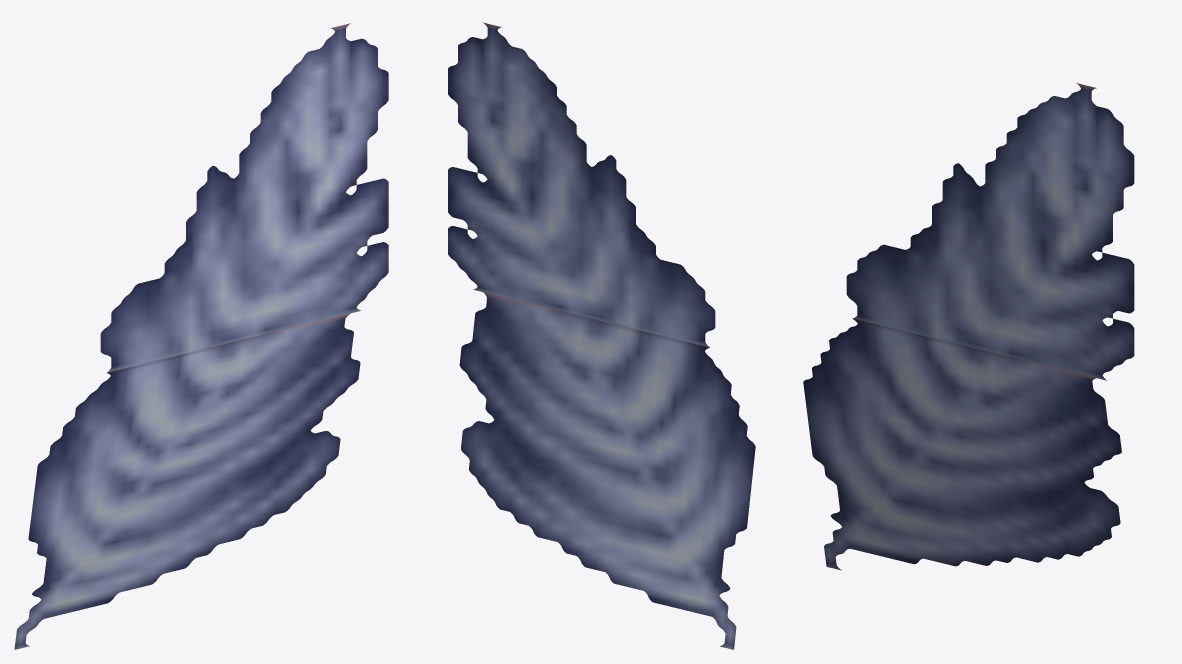
The picture shows the model from 3 angles, left to right: view 1: azimuth 30°, elevation 25°; view 2: azimuth 150°, elevation 25°; view 3: azimuth 330°, elevation 25°; orthographic projection. The views are drawn at different scales.
Visible parts, largest first — view 1: T1L1M002_7; view 2: T1L1M002_7; view 3: T1L1M002_7.
Boxes of the visible parts, box(x1,y1,x2,y2) form: T1L1M002_7: box(14, 23, 388, 649); T1L1M002_7: box(448, 22, 755, 649); T1L1M002_7: box(803, 83, 1134, 570).
Size of the model in its own units: 0.1045 by 0.1689 by 0.0176.
